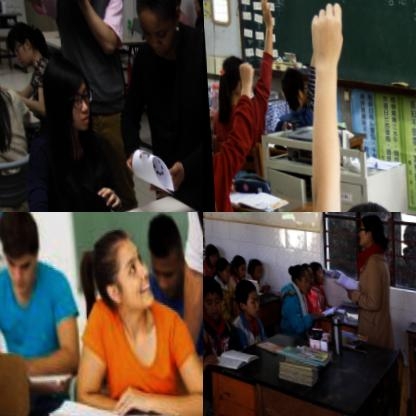head: (78, 216, 153, 315), (37, 52, 95, 131), (139, 212, 185, 298), (0, 212, 42, 294), (4, 17, 50, 70), (322, 193, 412, 212), (216, 54, 250, 103), (277, 60, 307, 114), (230, 274, 259, 317), (353, 212, 385, 246), (203, 273, 220, 316), (286, 259, 308, 290), (228, 250, 245, 274), (307, 253, 323, 278), (214, 254, 229, 280), (203, 239, 217, 265), (246, 253, 261, 276), (299, 256, 312, 282)
